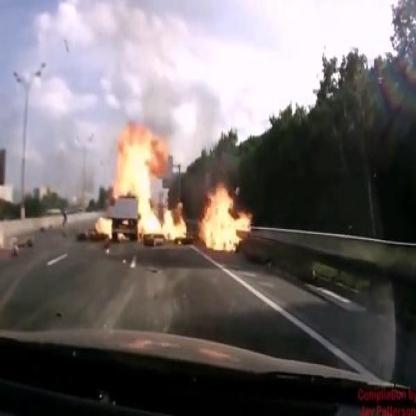fire: (94, 116, 190, 254), (197, 173, 254, 260)
